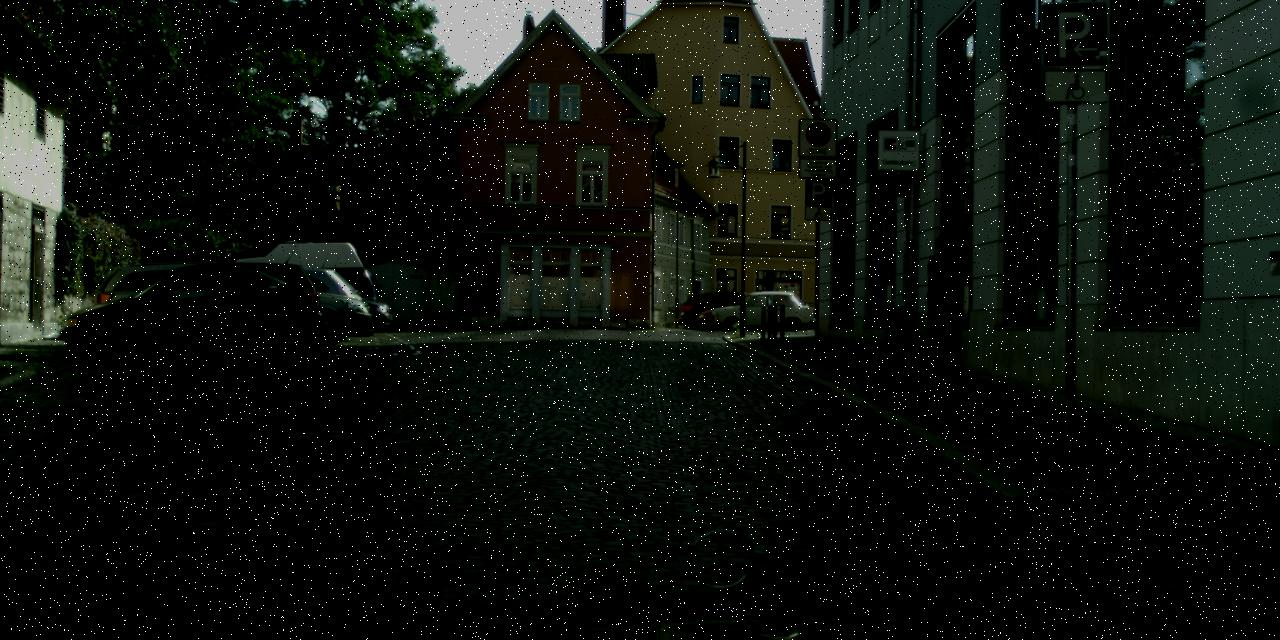ped: (912, 235, 966, 366)
